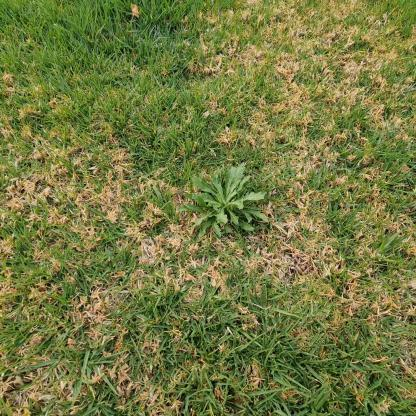Weeds: (177, 161, 269, 238)
